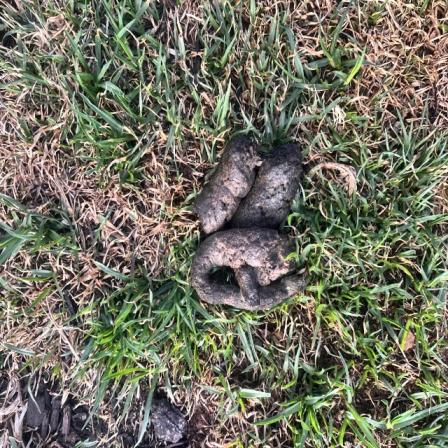dog-poop: (182, 128, 331, 316)
